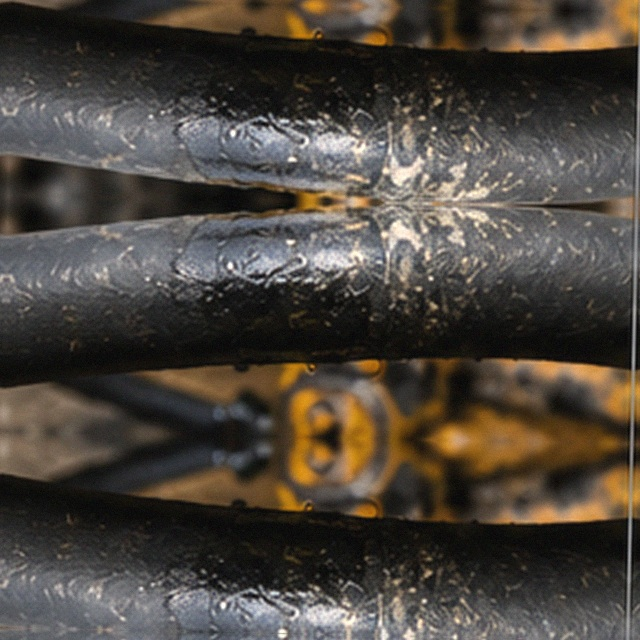hydraulic_oil_leak: (232, 216, 453, 466)
